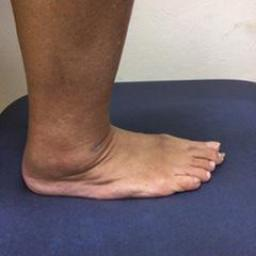Lateral View -Right Foot-: (16, 79, 230, 210)
